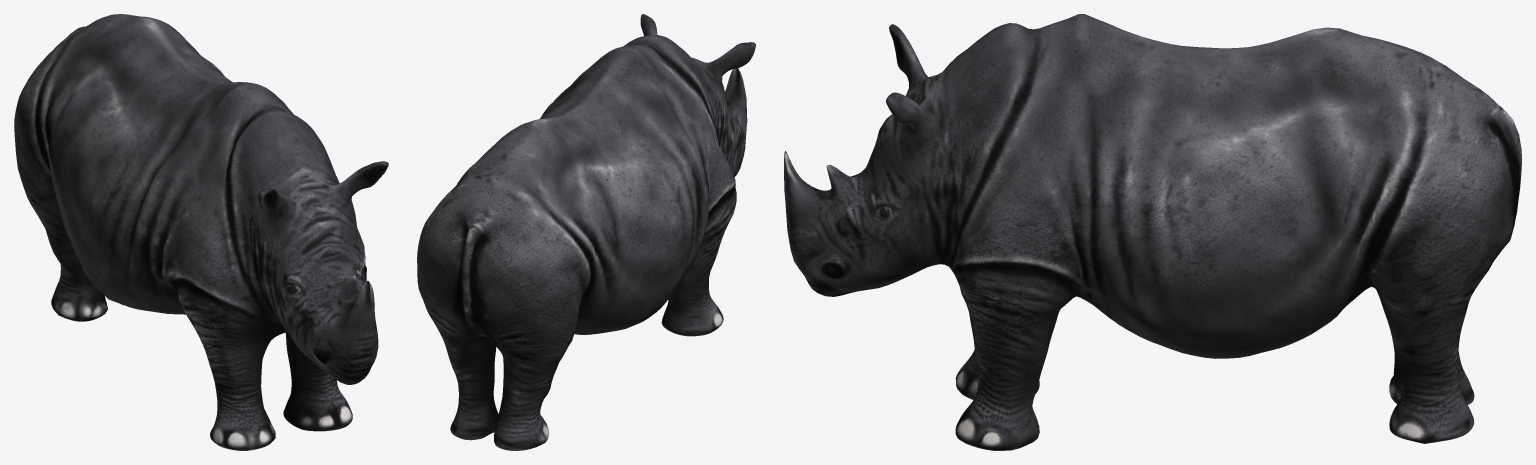
Rendered from uploads_files_5014602_Rhino_Quad.obj.
The picture shows the model from 3 angles, left to right: view 1: azimuth 30°, elevation 25°; view 2: azimuth 150°, elevation 25°; view 3: azimuth 270°, elevation 25°; orthographic projection. The views are drawn at different scales.
Visible parts, largest first — view 1: Rhino_Quad; view 2: Rhino_Quad; view 3: Rhino_Quad.
Part boxes in pixels (<box>): Rhino_Quad: <box>14,14,388,450</box>; Rhino_Quad: <box>417,14,755,450</box>; Rhino_Quad: <box>784,14,1521,450</box>.
Bounding box in the file's own units: 1.28 × 1.87 × 3.15.
